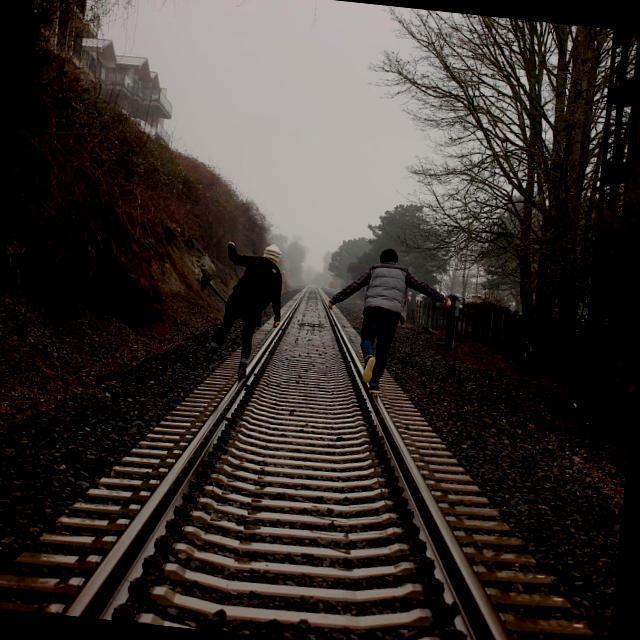danger: (324, 244, 458, 399), (196, 237, 284, 394)
rail: (67, 291, 306, 621), (327, 308, 510, 640)
